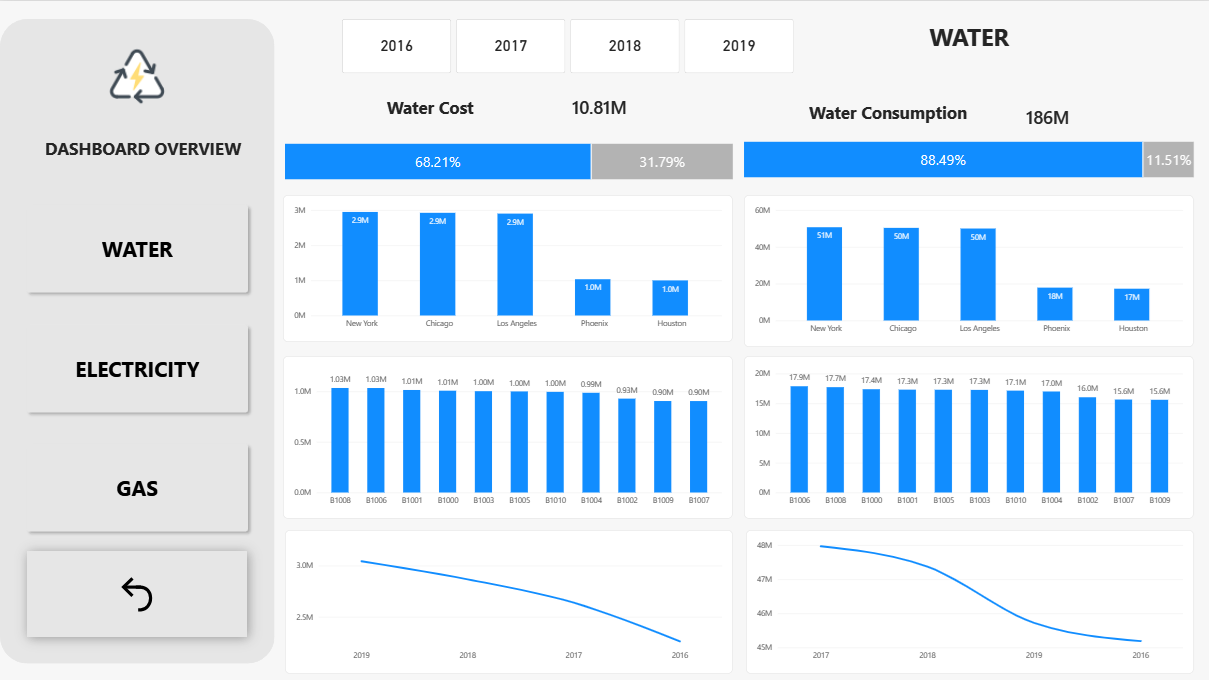

Layout of this report page (visuals, bound fields, positions):
{"tool":"powerbi","page":{"name":"Water","canvas":[1920,1080],"ordinal":1},"visuals":[{"type":"clusteredColumnChart","fields":{"Category":["Building Master.City"],"Y":["Kpis.water Cost,"]},"box":[448.7,307.6,713.5,233.1],"z":0},{"type":"cardVisual","fields":{"Data":["Kpis.water consumption"]},"box":[891,133.2,172.8,69.8],"z":1000},{"type":"cardVisual","fields":{"Data":["Kpis.Water Consuption2"]},"box":[1610.8,149,187.1,69.8],"z":2000},{"type":"shape","box":[0,28.7,435.4,1022],"z":3000},{"type":"textbox","box":[52.9,216.2,349.2,51.4],"z":4000},{"type":"actionButton","box":[33.3,314.5,368.9,157.2],"z":5000},{"type":"actionButton","box":[33.3,503.4,368.9,157.2],"z":6000},{"type":"actionButton","box":[33.3,692.4,368.9,157.2],"z":7000},{"type":"actionButton","box":[42.3,872.3,349.2,136.1],"z":8000},{"type":"textbox","box":[1355.6,31.7,361.5,65],"z":9000},{"type":"advancedSlicerVisual","fields":{"Values":["Energy Consumptions.Year"]},"box":[542.2,28.5,718.1,86.2],"z":10000},{"type":"image","box":[99.8,65,235.8,108.9],"z":11000},{"type":"hundredPercentStackedBarChart","fields":{"Y":["Kpis.% Water Cost","Kpis.Water Cost Remaining %"]},"box":[451.9,190.3,710.3,120.5],"z":12000},{"type":"textbox","box":[507.3,150.6,349.2,51.4],"z":13000},{"type":"hundredPercentStackedBarChart","fields":{"Y":["Kpis.% Water Consumption","Kpis.Water Consumption Remaining %"]},"box":[1179.6,187.1,713.5,120.5],"z":14000},{"type":"textbox","box":[1233.5,158.5,349.2,51.4],"z":15000},{"type":"clusteredColumnChart","fields":{"Category":["Building Master.City"],"Y":["Kpis.Water Consumption"]},"box":[1179.6,307.6,713.5,241],"z":16000},{"type":"clusteredColumnChart","fields":{"Category":["Building Master.Building"],"Y":["Kpis.water Cost,"]},"box":[448.7,562.8,713.5,258.4],"z":17000},{"type":"clusteredColumnChart","fields":{"Category":["Building Master.Building"],"Y":["Kpis.Water Consumption"]},"box":[1179.6,562.8,713.5,258.4],"z":18000},{"type":"lineChart","fields":{"Category":["Energy Consumptions.Year"],"Y":["Kpis.water Cost,"]},"box":[451.9,838.7,710.3,228.3],"z":19000},{"type":"lineChart","fields":{"Category":["Energy Consumptions.Year"],"Y":["Kpis.Water Consumption"]},"box":[1182.8,838.7,710.3,228.3],"z":20000}]}

Visuals, with their boxes in screenshot pixels (x1, y1, x2, y2), scaled from the page's 1920x1080 canvas onto the 1209x680 screenshot:
clusteredColumnChart - Building Master.City x Kpis.water Cost,: pyautogui.locateOnScreen(283, 194, 732, 340)
cardVisual - Kpis.water consumption: pyautogui.locateOnScreen(561, 84, 670, 128)
cardVisual - Kpis.Water Consuption2: pyautogui.locateOnScreen(1014, 94, 1132, 138)
shape: pyautogui.locateOnScreen(0, 18, 274, 662)
textbox: pyautogui.locateOnScreen(33, 136, 253, 168)
actionButton: pyautogui.locateOnScreen(21, 198, 253, 297)
actionButton: pyautogui.locateOnScreen(21, 317, 253, 416)
actionButton: pyautogui.locateOnScreen(21, 436, 253, 535)
actionButton: pyautogui.locateOnScreen(27, 549, 247, 635)
textbox: pyautogui.locateOnScreen(854, 20, 1081, 61)
advancedSlicerVisual - Energy Consumptions.Year: pyautogui.locateOnScreen(341, 18, 794, 72)
image: pyautogui.locateOnScreen(63, 41, 211, 109)
hundredPercentStackedBarChart - Kpis.% Water Cost x Kpis.Water Cost Remaining %: pyautogui.locateOnScreen(285, 120, 732, 196)
textbox: pyautogui.locateOnScreen(319, 95, 539, 127)
hundredPercentStackedBarChart - Kpis.% Water Consumption x Kpis.Water Consumption Remaining %: pyautogui.locateOnScreen(743, 118, 1192, 194)
textbox: pyautogui.locateOnScreen(777, 100, 997, 132)
clusteredColumnChart - Building Master.City x Kpis.Water Consumption: pyautogui.locateOnScreen(743, 194, 1192, 345)
clusteredColumnChart - Building Master.Building x Kpis.water Cost,: pyautogui.locateOnScreen(283, 354, 732, 517)
clusteredColumnChart - Building Master.Building x Kpis.Water Consumption: pyautogui.locateOnScreen(743, 354, 1192, 517)
lineChart - Energy Consumptions.Year x Kpis.water Cost,: pyautogui.locateOnScreen(285, 528, 732, 672)
lineChart - Energy Consumptions.Year x Kpis.Water Consumption: pyautogui.locateOnScreen(745, 528, 1192, 672)
